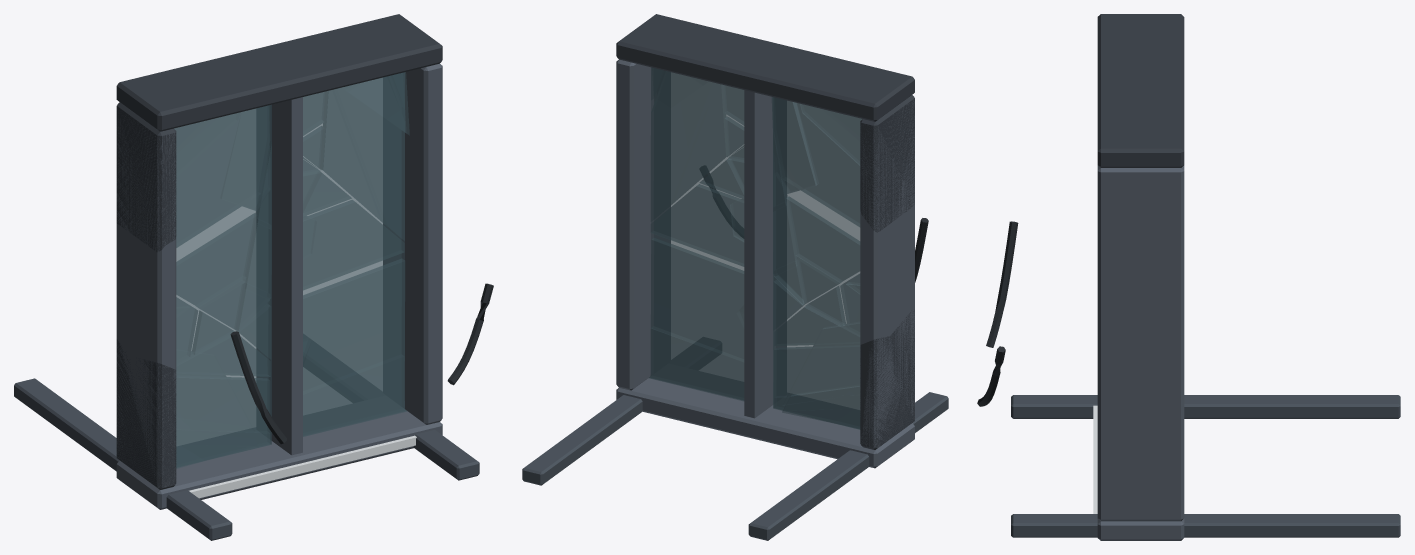
File: shr_cmp_generic_panel_glass_b.glb
3 renders of one model, left to right at view 1: azimuth 30°, elevation 25°; view 2: azimuth 150°, elevation 25°; view 3: azimuth 270°, elevation 25°, orthographic. The views are drawn at different scales.
Visible parts, largest first — view 1: mesh_intact, mesh_light, mesh_heavy; view 2: mesh_intact, mesh_heavy, mesh_light; view 3: mesh_heavy, mesh_intact, mesh_light.
Boxes of the visible parts, <box> form: mesh_intact: <box>116,68,442,498</box>; mesh_light: <box>174,69,442,486</box>; mesh_heavy: <box>14,14,493,540</box>; mesh_intact: <box>616,62,914,447</box>; mesh_heavy: <box>522,14,948,540</box>; mesh_light: <box>616,64,874,468</box>; mesh_heavy: <box>977,14,1400,540</box>; mesh_intact: <box>1093,171,1184,519</box>; mesh_light: <box>1097,171,1184,522</box>.
Size of the model in its own units: 0.6 by 0.8 by 0.7824.
